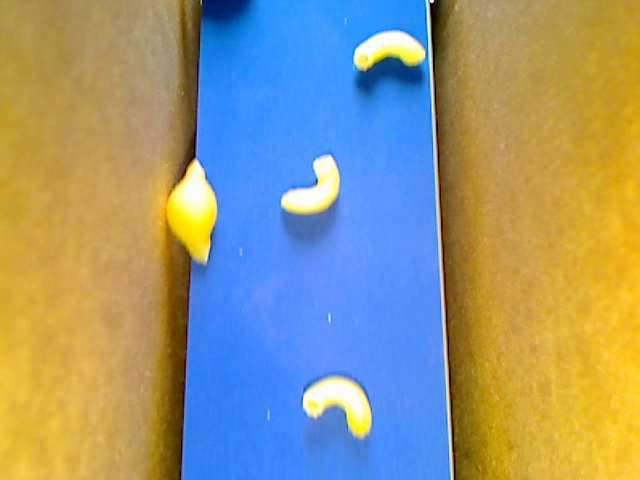elbow: (302, 375, 371, 437), (280, 154, 340, 213), (351, 29, 425, 70)
shell: (165, 159, 218, 265)
